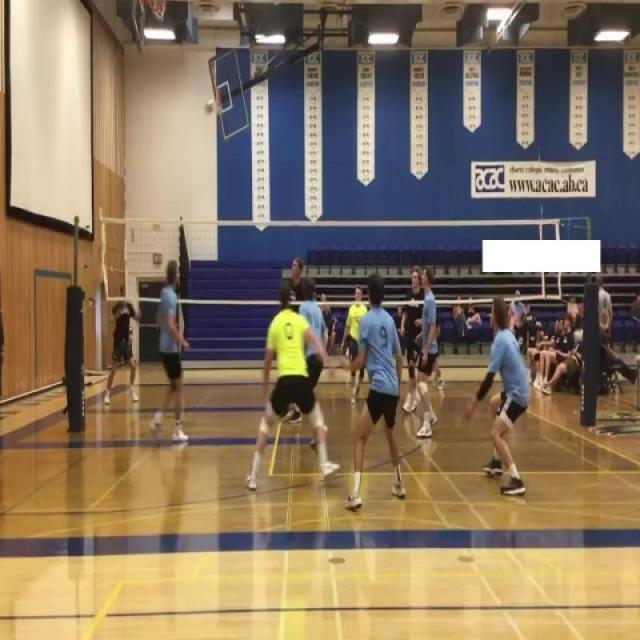volleyball: (204, 98, 216, 117)
